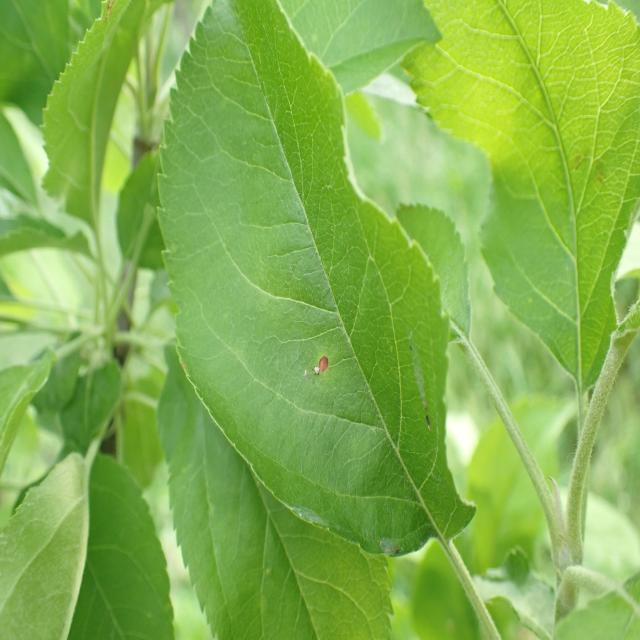Black Rot: (294, 341, 336, 388)
